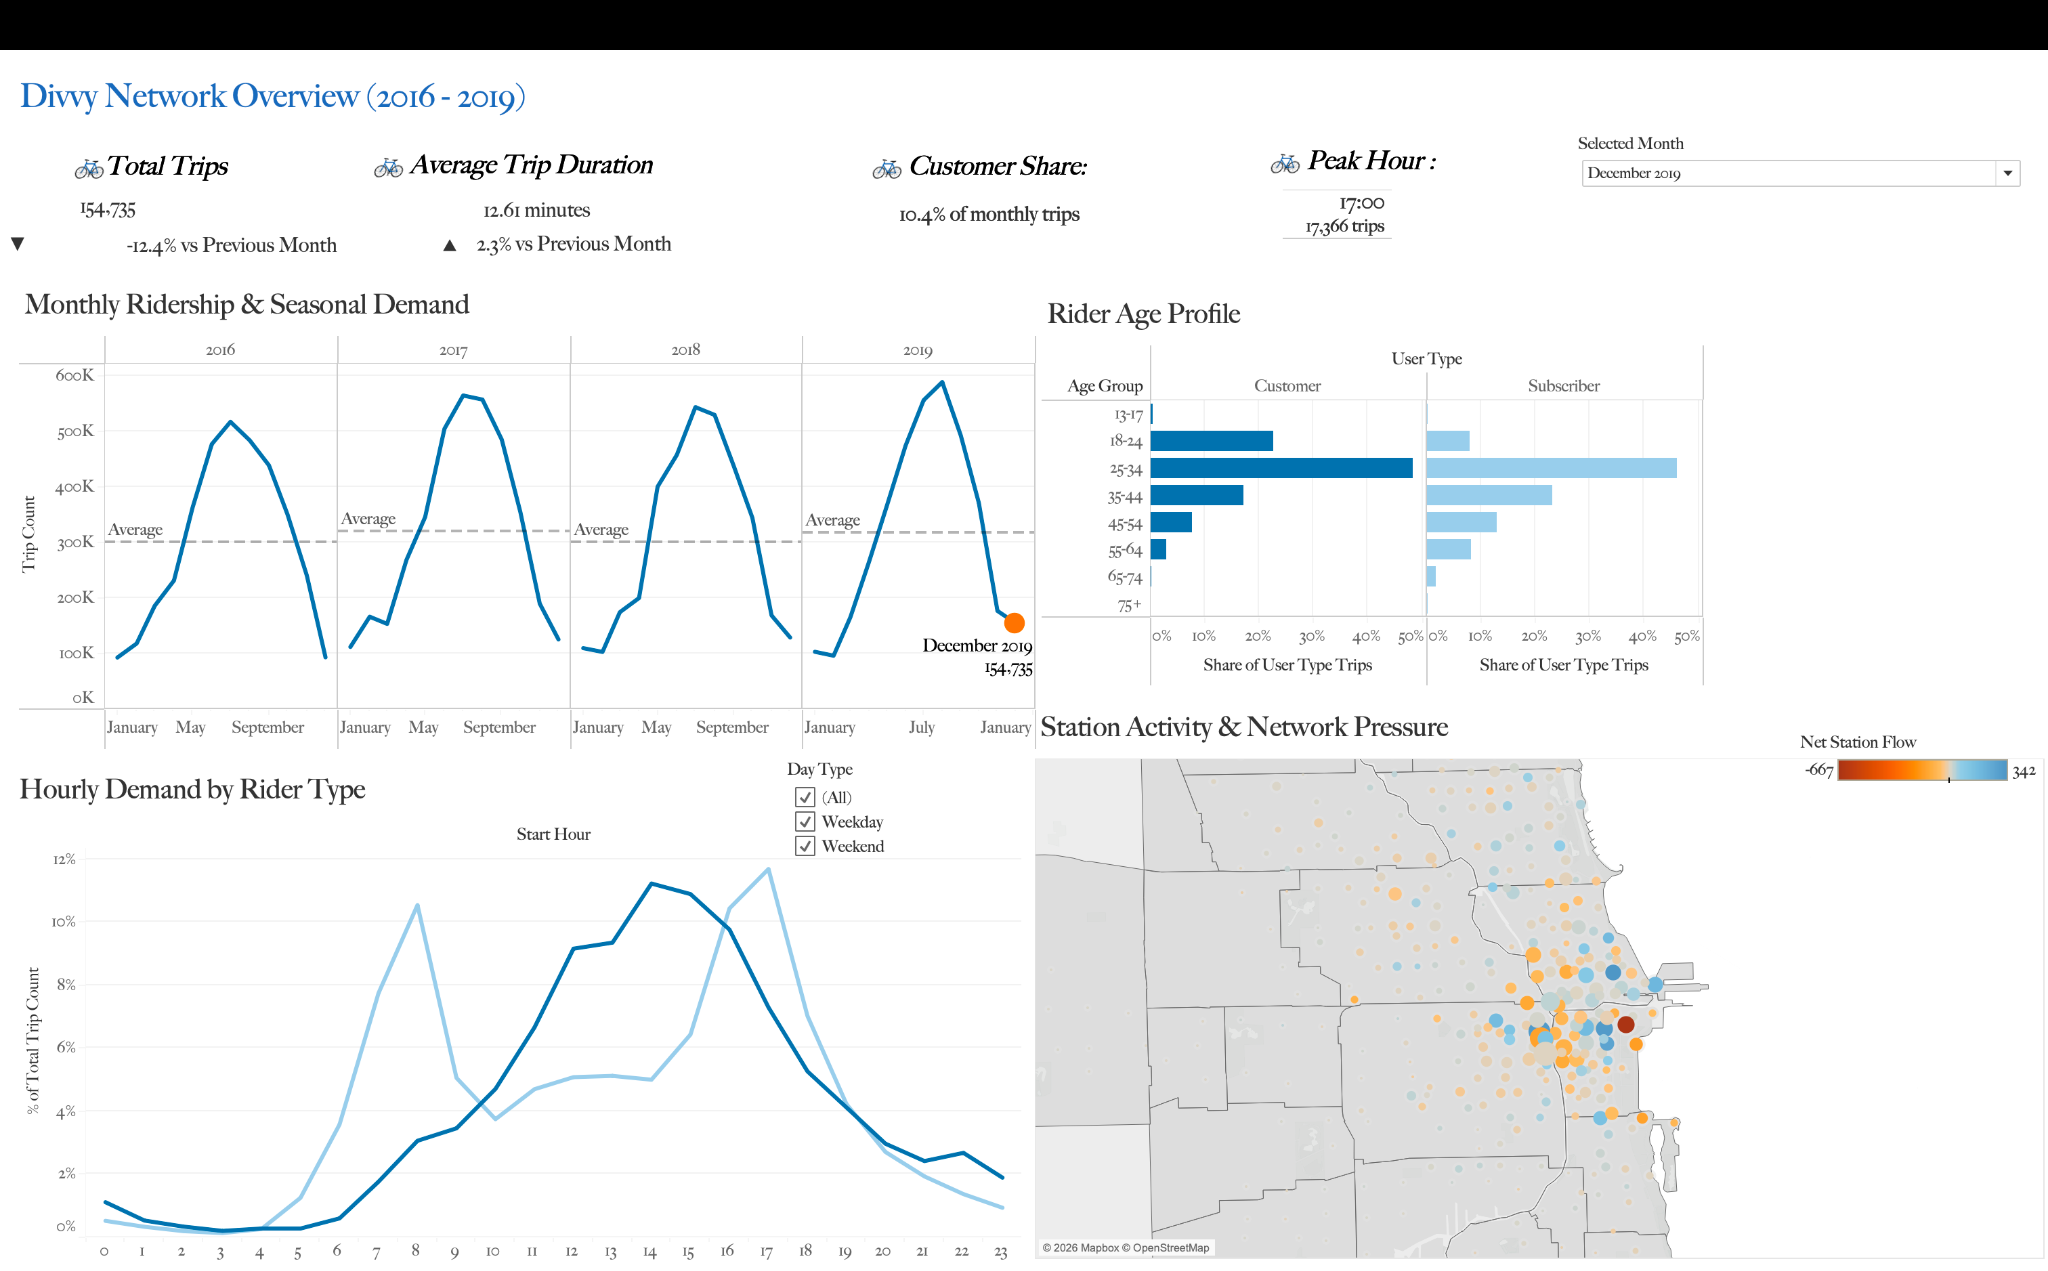

Layout of this report page (visuals, bound fields, positions):
{"tool":"tableau","page":{"name":"Dashboard 1","canvas":[1000,1000],"units":"permille","ordinal":0},"visuals":[{"type":"title","box":[7.9,16.3,635.2,73.8]},{"type":"parameter","param":"[Parameters].[Parameter 3395950209945607]","box":[770.4,67.6,218.1,90.1]},{"type":"text","box":[618.7,72.6,123.9,41.3]},{"type":"text","box":[34.3,73.8,111.3,45.1]},{"type":"text","box":[424.1,75.1,154.5,42.6]},{"type":"text","box":[180.6,76.4,201.6,38.8]},{"type":"worksheet","title":"KPI3","mark":"Automatic","box":[424.5,86.4,169.2,70.1]},{"type":"worksheet","title":"KPI4","mark":"Automatic","rows":["start_hour"],"box":[626.5,96.4,142.5,87.6]},{"type":"worksheet","title":"KPI1","mark":"Automatic","box":[28.8,98,134.6,63]},{"type":"worksheet","title":"KPI2","mark":"Automatic","box":[224.8,101.4,187.5,66.3]},{"type":"worksheet","title":"KPI2.1","mark":"Automatic","box":[225.1,128.9,179.8,75.1]},{"type":"worksheet","title":"KPI1.1","mark":"Automatic","box":[19.1,130.2,147.9,67.6]},{"type":"worksheet","title":"KPI1.2","mark":"Automatic","box":[1.8,131.4,65.5,57.6]},{"type":"worksheet","title":"KPI2.2","mark":"Automatic","box":[212.9,131.4,56.7,53.8]},{"type":"worksheet","title":"D1 - Temporal","mark":"Line","rows":["trip_count","Calculation_6856116828569614"],"cols":["Calculation_3395950208290820","Calculation_3395950208290820"],"box":[9.2,187.7,496.9,376.7]},{"type":"worksheet","title":"D1 - Age Profile ","mark":"Automatic","rows":["age_group"],"cols":["user_type"],"box":[508.7,195.2,490.4,331.7]},{"type":"worksheet","title":"D1 - Network Pressure Map","mark":"Multipolygon","box":[505.3,529.4,493.1,446.8]},{"type":"legend","title":"D1 - Network Pressure Map","param":"[federated.0bimfjk1rhimm21fvrdlw0xkwobx].[sum:net_station_flow:qk]","box":[878.8,550.7,118.1,96.4]},{"type":"filter","title":"D1 - CvsS","param":"[federated.0vaepqf0lz3zss1a03zgj04atr3c].[none:day_type:nk]","box":[384.2,573.2,122,101.4]},{"type":"worksheet","title":"D1 - CvsS","mark":"Line","cols":["start_hour"],"box":[6.9,579.5,492.4,400.5]}]}

Visuals, with their boxes on the dashboard's canvas, which has no fixed pixel size, in thousandths of its width and height (x1, y1, x2, y2). These are canvas units, not pixel positions in the 2048x1271 screenshot, which may show the page scaled, cropped or inside an application window:
title: [left=8, top=16, right=643, bottom=90]
parameter: [left=770, top=68, right=988, bottom=158]
text: [left=619, top=73, right=743, bottom=114]
text: [left=34, top=74, right=146, bottom=119]
text: [left=424, top=75, right=579, bottom=118]
text: [left=181, top=76, right=382, bottom=115]
"KPI3" worksheet: [left=424, top=86, right=594, bottom=156]
"KPI4" worksheet: [left=626, top=96, right=769, bottom=184]
"KPI1" worksheet: [left=29, top=98, right=163, bottom=161]
"KPI2" worksheet: [left=225, top=101, right=412, bottom=168]
"KPI2.1" worksheet: [left=225, top=129, right=405, bottom=204]
"KPI1.1" worksheet: [left=19, top=130, right=167, bottom=198]
"KPI1.2" worksheet: [left=2, top=131, right=67, bottom=189]
"KPI2.2" worksheet: [left=213, top=131, right=270, bottom=185]
"D1 - Temporal" worksheet (Line marks): [left=9, top=188, right=506, bottom=564]
"D1 - Age Profile " worksheet: [left=509, top=195, right=999, bottom=527]
"D1 - Network Pressure Map" worksheet (Multipolygon marks): [left=505, top=529, right=998, bottom=976]
"D1 - Network Pressure Map" legend: [left=879, top=551, right=997, bottom=647]
"D1 - CvsS" filter: [left=384, top=573, right=506, bottom=675]
"D1 - CvsS" worksheet (Line marks): [left=7, top=580, right=499, bottom=980]
